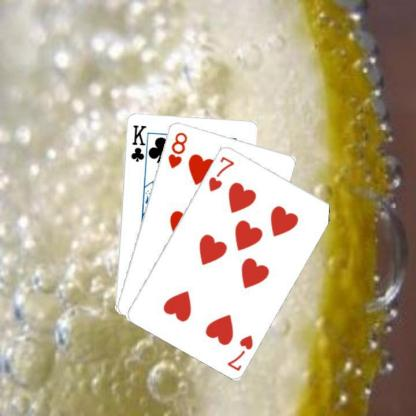7H: (224, 332, 254, 372), (206, 153, 235, 193)
8H: (166, 130, 188, 170)
KC: (128, 122, 150, 167)
